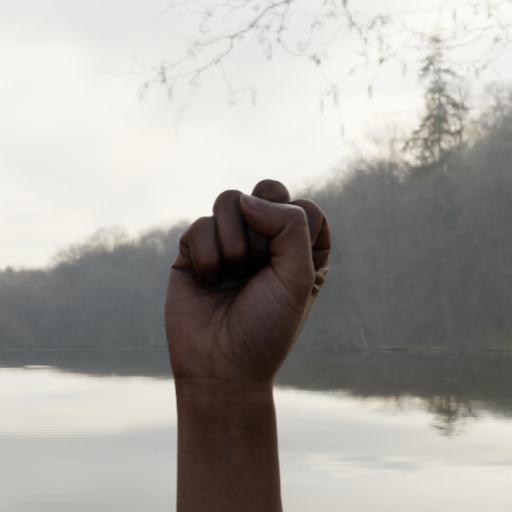S: (159, 172, 337, 396)
